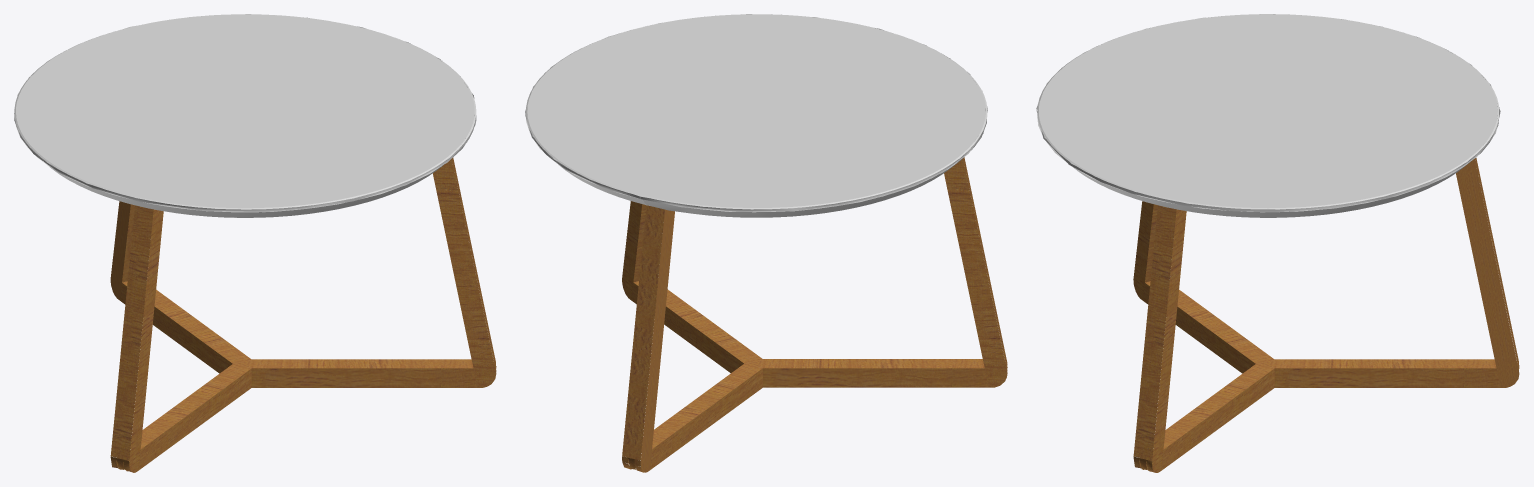
Rendered from piece4.glb.
The picture shows the model from 3 angles, left to right: view 1: azimuth 30°, elevation 25°; view 2: azimuth 150°, elevation 25°; view 3: azimuth 270°, elevation 25°; orthographic projection.
Parts seen in each view (by area): view 1: Object_4.002; view 2: Object_4.002; view 3: Object_4.002.
Part boxes in pixels (x1,y1,x2,y2): Object_4.002: (14,14,496,472); Object_4.002: (525,14,1007,472); Object_4.002: (1036,14,1519,472).
Bounding box in the file's own units: 0.2821 × 0.1835 × 0.2945.
2 materials, 1 textured.
